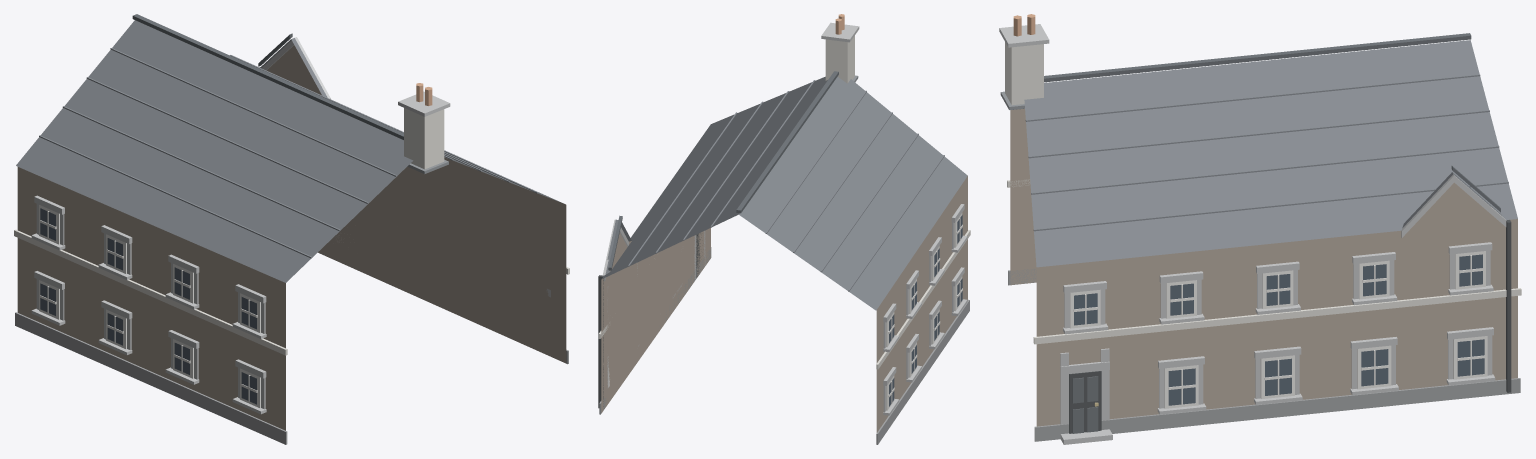
3 views of the same model, side by side, from view 1: azimuth 30°, elevation 25°; view 2: azimuth 150°, elevation 25°; view 3: azimuth 270°, elevation 25° (orthographic). The views are drawn at different scales.
Parts seen in each view (by area): view 1: harl_brown, slate, stone_band, plinth, slate_lt, frame, slate_dk, chim_render, string; view 2: slate, harl_brown, stone_band, slate_lt, plinth, frame, slate_dk, chim_render, string, pipe; view 3: slate, harl_brown, stone_band, plinth, frame, slate_lt, string, slate_dk, chim_render, door_dark_p, pipe, door_dark (+9 smaller).
Boxes of the visible parts, x1,y1,x2,y2 form: harl_brown: [17, 45, 566, 430]; slate: [16, 20, 561, 282]; stone_band: [31, 37, 550, 414]; plinth: [15, 250, 568, 444]; slate_lt: [39, 48, 538, 258]; frame: [39, 205, 343, 408]; slate_dk: [132, 14, 403, 139]; chim_render: [404, 108, 444, 169]; string: [14, 229, 569, 355]; slate: [601, 76, 967, 310]; harl_brown: [601, 176, 967, 432]; stone_band: [602, 22, 967, 415]; slate_lt: [628, 80, 944, 291]; plinth: [599, 247, 969, 444]; frame: [608, 213, 962, 410]; slate_dk: [608, 71, 838, 270]; chim_render: [825, 35, 854, 83]; string: [598, 230, 970, 369]; pipe: [598, 275, 603, 408]; slate: [1013, 40, 1517, 267]; harl_brown: [1010, 108, 1517, 426]; stone_band: [999, 24, 1506, 444]; plinth: [1008, 269, 1520, 441]; frame: [1070, 251, 1487, 408]; slate_lt: [1025, 74, 1508, 231]; string: [1007, 179, 1521, 344]; slate_dk: [1044, 33, 1500, 212]; chim_render: [1005, 42, 1043, 105]; door_dark_p: [1072, 376, 1098, 433]; pipe: [1506, 220, 1511, 392]; door_dark: [1069, 371, 1101, 433].
Size of the model in its own units: 13.86 by 10.97 by 15.01.
